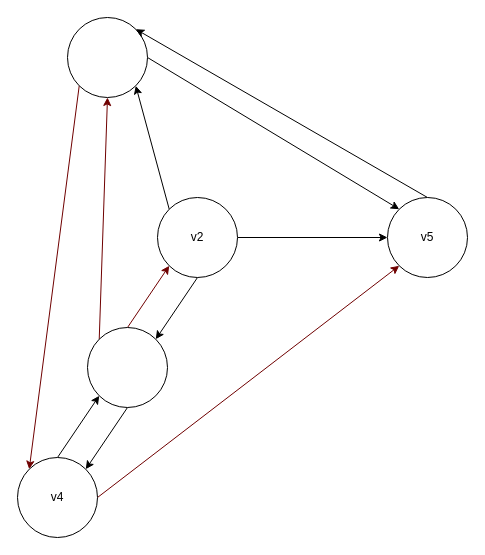
Some shapes in this 485 by 555 pixel diagram are drawn without their labels. Here are the shapes that lost their labels. From the top down, the centre of each, then its label:
At (x=107, y=57): "v3".
At (x=127, y=367): "v1".
